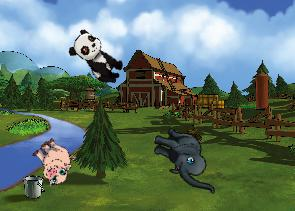elephant: (145, 125, 225, 194)
panda: (64, 26, 130, 89)
pig: (25, 133, 81, 189)
